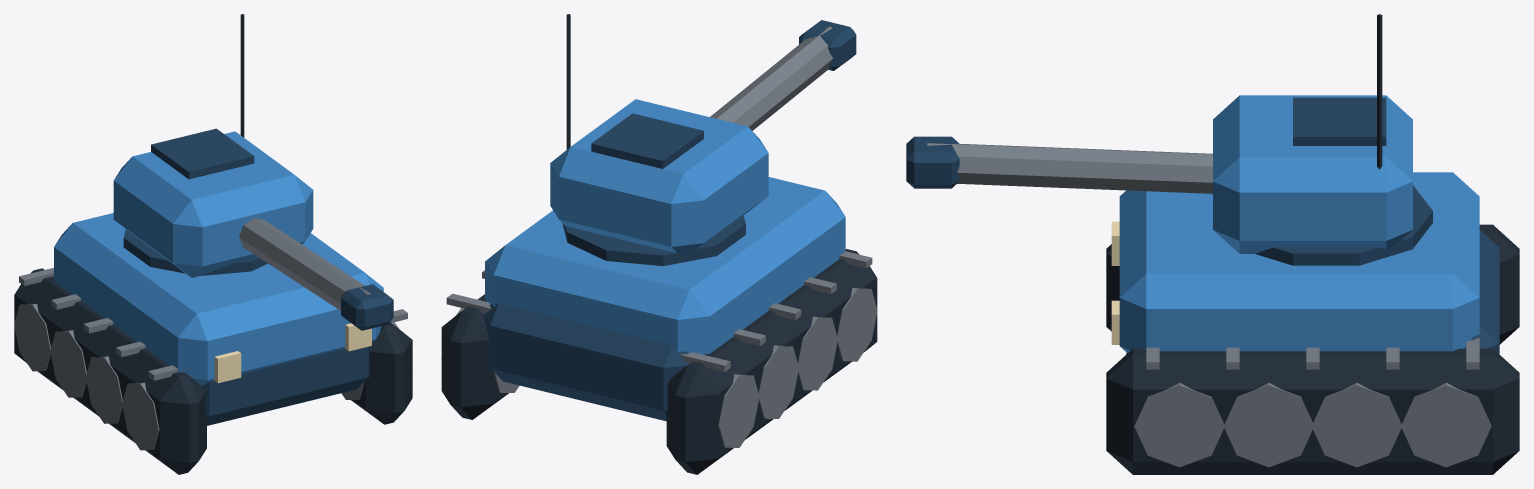
File: u_tank.glb
3 views of the same model, side by side, from view 1: azimuth 30°, elevation 25°; view 2: azimuth 150°, elevation 25°; view 3: azimuth 270°, elevation 25° (orthographic). The views are drawn at different scales.
Visible parts, largest first — view 1: u_tank; view 2: u_tank; view 3: u_tank.
Boxes of the visible parts, x1,y1,x2,y2 form: u_tank: [14, 14, 412, 474]; u_tank: [441, 14, 877, 474]; u_tank: [906, 14, 1519, 474].
Size of the model in its own units: 0.272 by 0.355 by 0.46.
